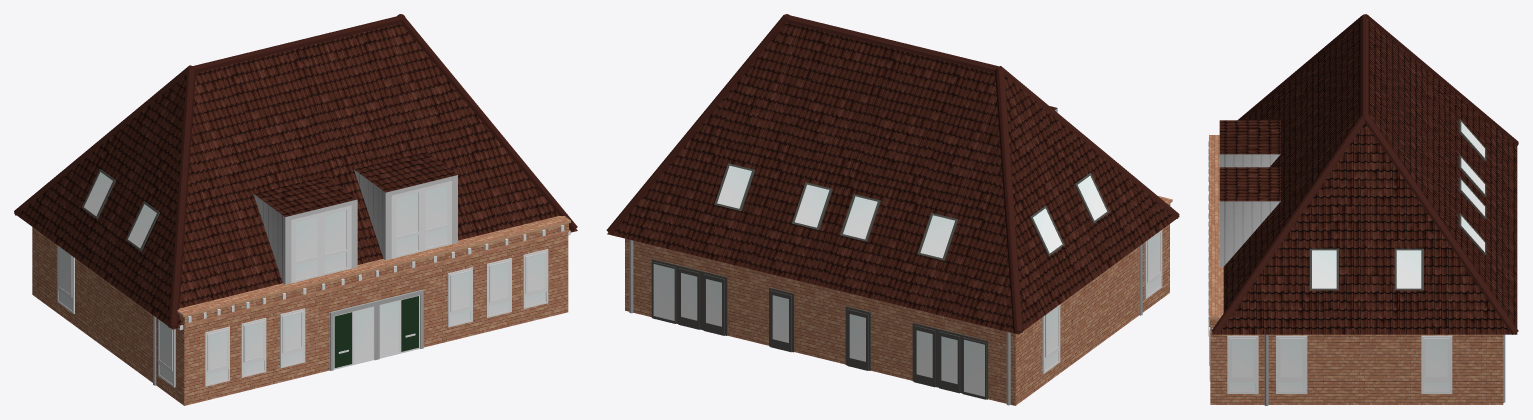
Rendered from Swinge Type C1 en C2.fbx.
The picture shows the model from 3 angles, left to right: view 1: azimuth 30°, elevation 25°; view 2: azimuth 150°, elevation 25°; view 3: azimuth 270°, elevation 25°; orthographic projection. The views are drawn at different scales.
Parts seen in each view (by area): view 1: Swinge_Type_C1_C2; view 2: Swinge_Type_C1_C2; view 3: Swinge_Type_C1_C2.
Part boxes in pixels (x1,y1,x2,y2): Swinge_Type_C1_C2: [14, 14, 577, 405]; Swinge_Type_C1_C2: [606, 14, 1179, 405]; Swinge_Type_C1_C2: [1208, 14, 1518, 405].
Bounding box in the file's own units: 15.83 × 9.61 × 10.8.
Materials: 1 (1 with a texture image).
